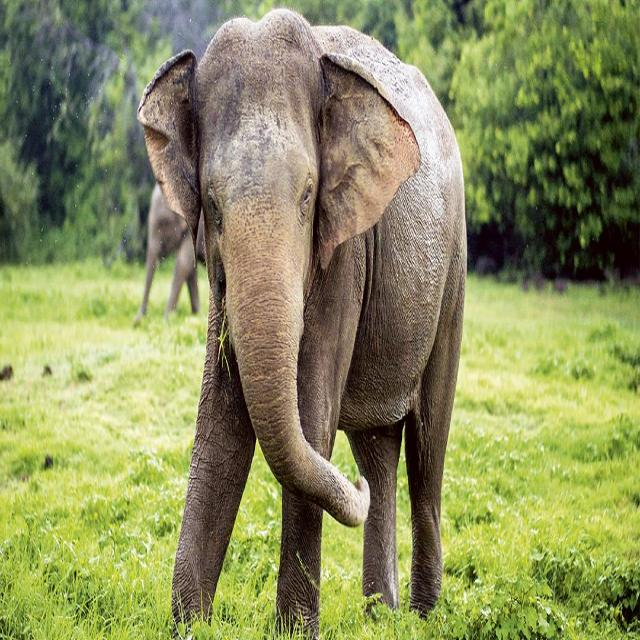Elephant: (135, 7, 468, 638), (134, 179, 204, 325)
